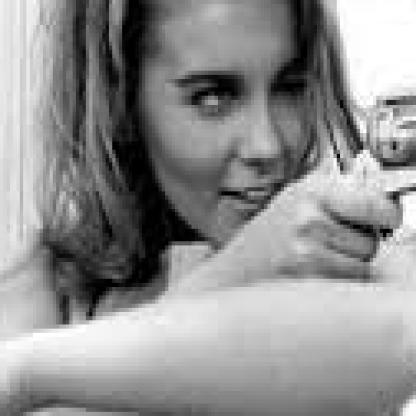gun: (198, 19, 351, 171)
